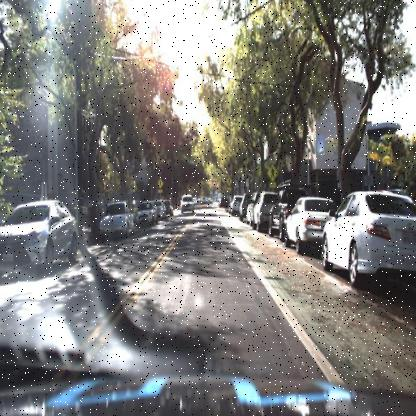car: (320, 186, 415, 283), (0, 198, 79, 281), (287, 192, 338, 242), (98, 199, 141, 246), (179, 191, 194, 219), (154, 197, 168, 223), (180, 192, 196, 213)
